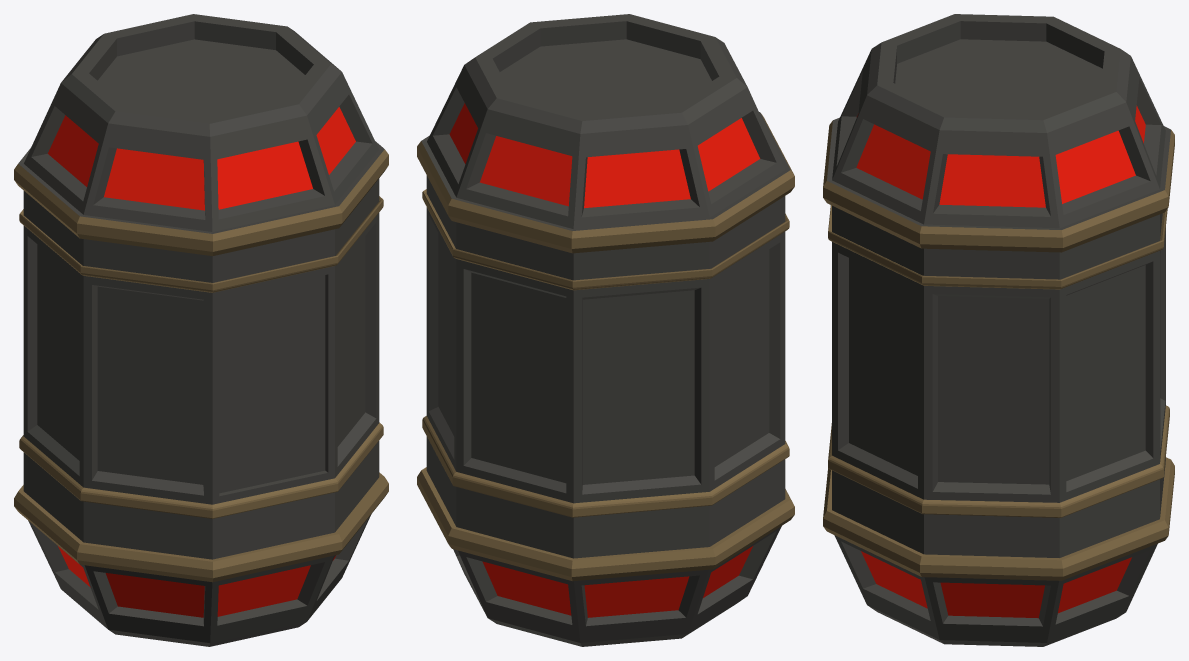
Rendered from BarrelExplosive (1).fbx.
3 renders of one model, left to right at view 1: azimuth 30°, elevation 25°; view 2: azimuth 150°, elevation 25°; view 3: azimuth 270°, elevation 25°, orthographic.
Visible parts, largest first — view 1: Barrel, Lights1; view 2: Barrel, Lights1; view 3: Barrel, Lights1.
Boxes of the visible parts, x1=… form: Barrel: x1=14, y1=14, x2=388, y2=646; Lights1: x1=47, y1=107, x2=355, y2=617; Barrel: x1=417, y1=14, x2=794, y2=646; Lights1: x1=449, y1=103, x2=760, y2=617; Barrel: x1=823, y1=14, x2=1174, y2=646; Lights1: x1=856, y1=105, x2=1145, y2=618.
Bounding box in the file's own units: 148 × 237 × 144.
